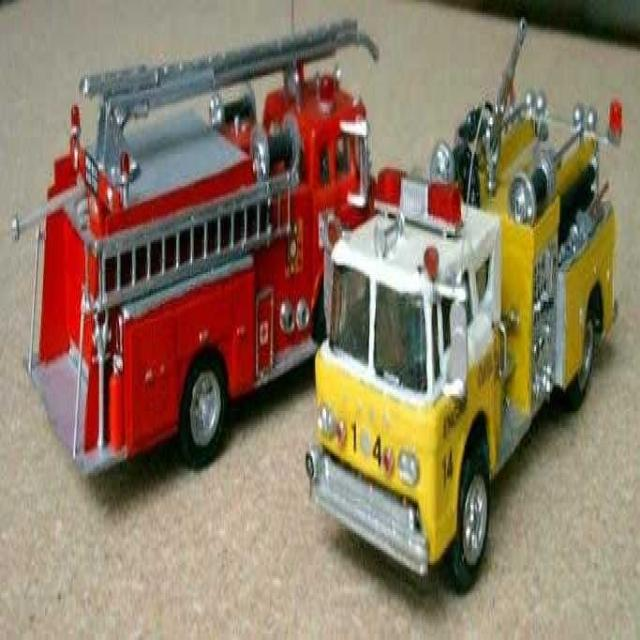ambulance: (306, 20, 619, 598), (12, 20, 380, 482)
